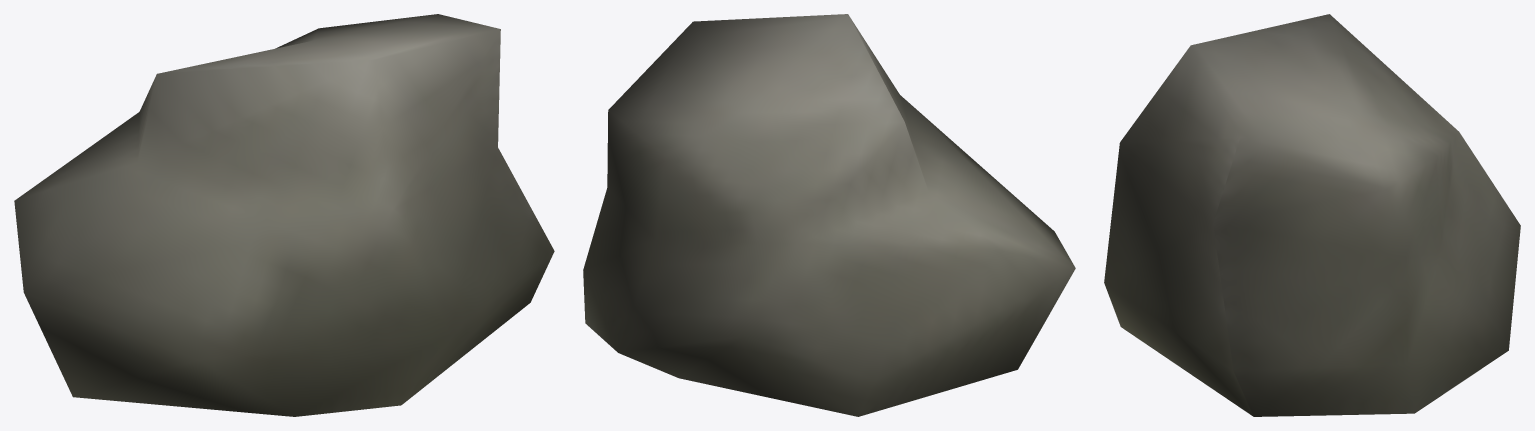
The model's file is Stones_Medium_03.FBX.
3 views of the same model, side by side, from view 1: azimuth 30°, elevation 25°; view 2: azimuth 150°, elevation 25°; view 3: azimuth 270°, elevation 25° (orthographic). The views are drawn at different scales.
Visible parts, largest first — view 1: Stones_Medium_03; view 2: Stones_Medium_03; view 3: Stones_Medium_03.
Part boxes in pixels (box(x1,y1,x2,y2)): Stones_Medium_03: box(14, 14, 554, 416); Stones_Medium_03: box(583, 14, 1075, 416); Stones_Medium_03: box(1104, 14, 1520, 416).
Size of the model in its own units: 293 by 172 by 226.
